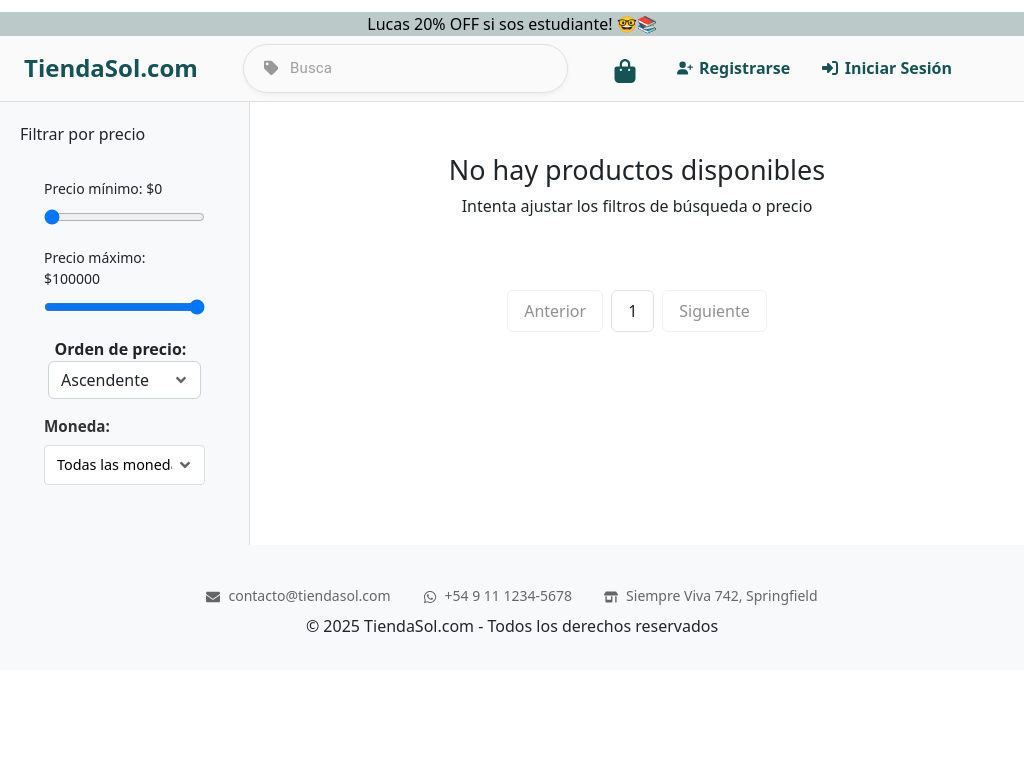
Login y Registro - E2E › Debería mostrar el formulario de login
Click the button "Iniciar Sesión": (887, 68) x1=814 y1=48 x2=960 y2=88
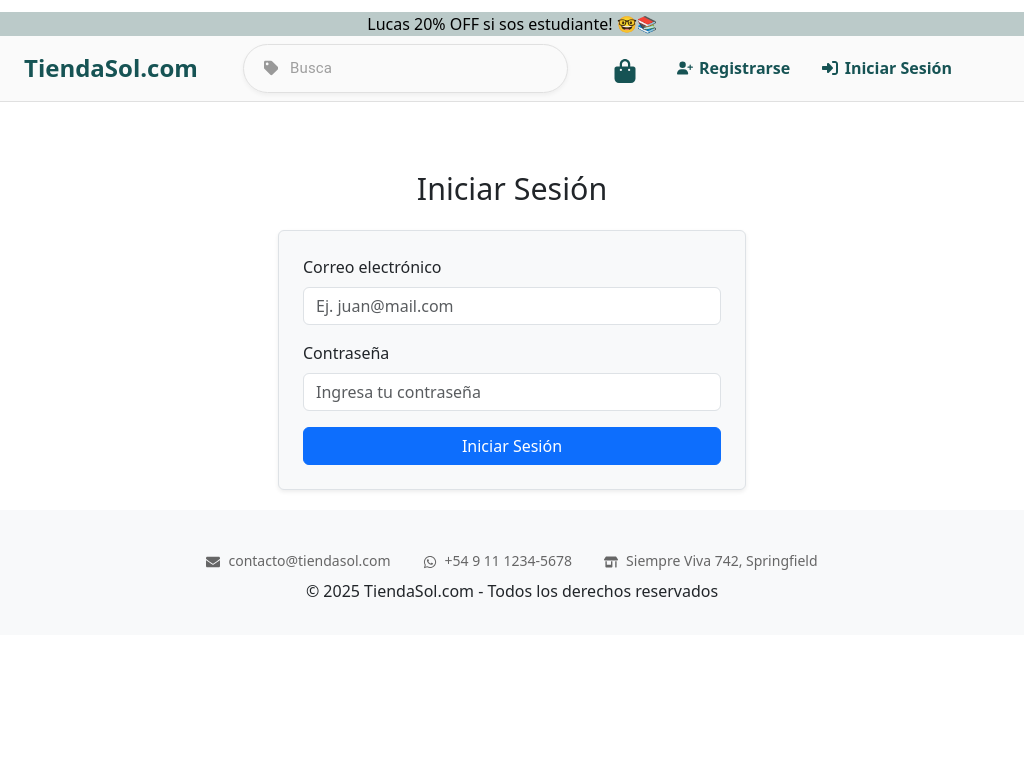
Expected: the field labelled "Correo electrónico" is shown, x1=303 y1=287 x2=721 y2=325
Expected: the password field labelled "Contraseña" is shown, x1=303 y1=373 x2=721 y2=411
Expected: the submit button is shown, x1=303 y1=427 x2=721 y2=465
